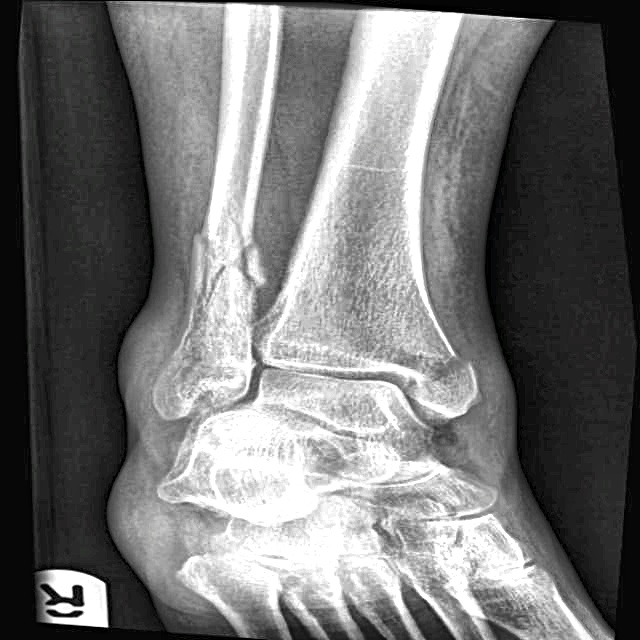Comminuted: (167, 217, 277, 314)
Greenstick: (366, 334, 498, 401)
